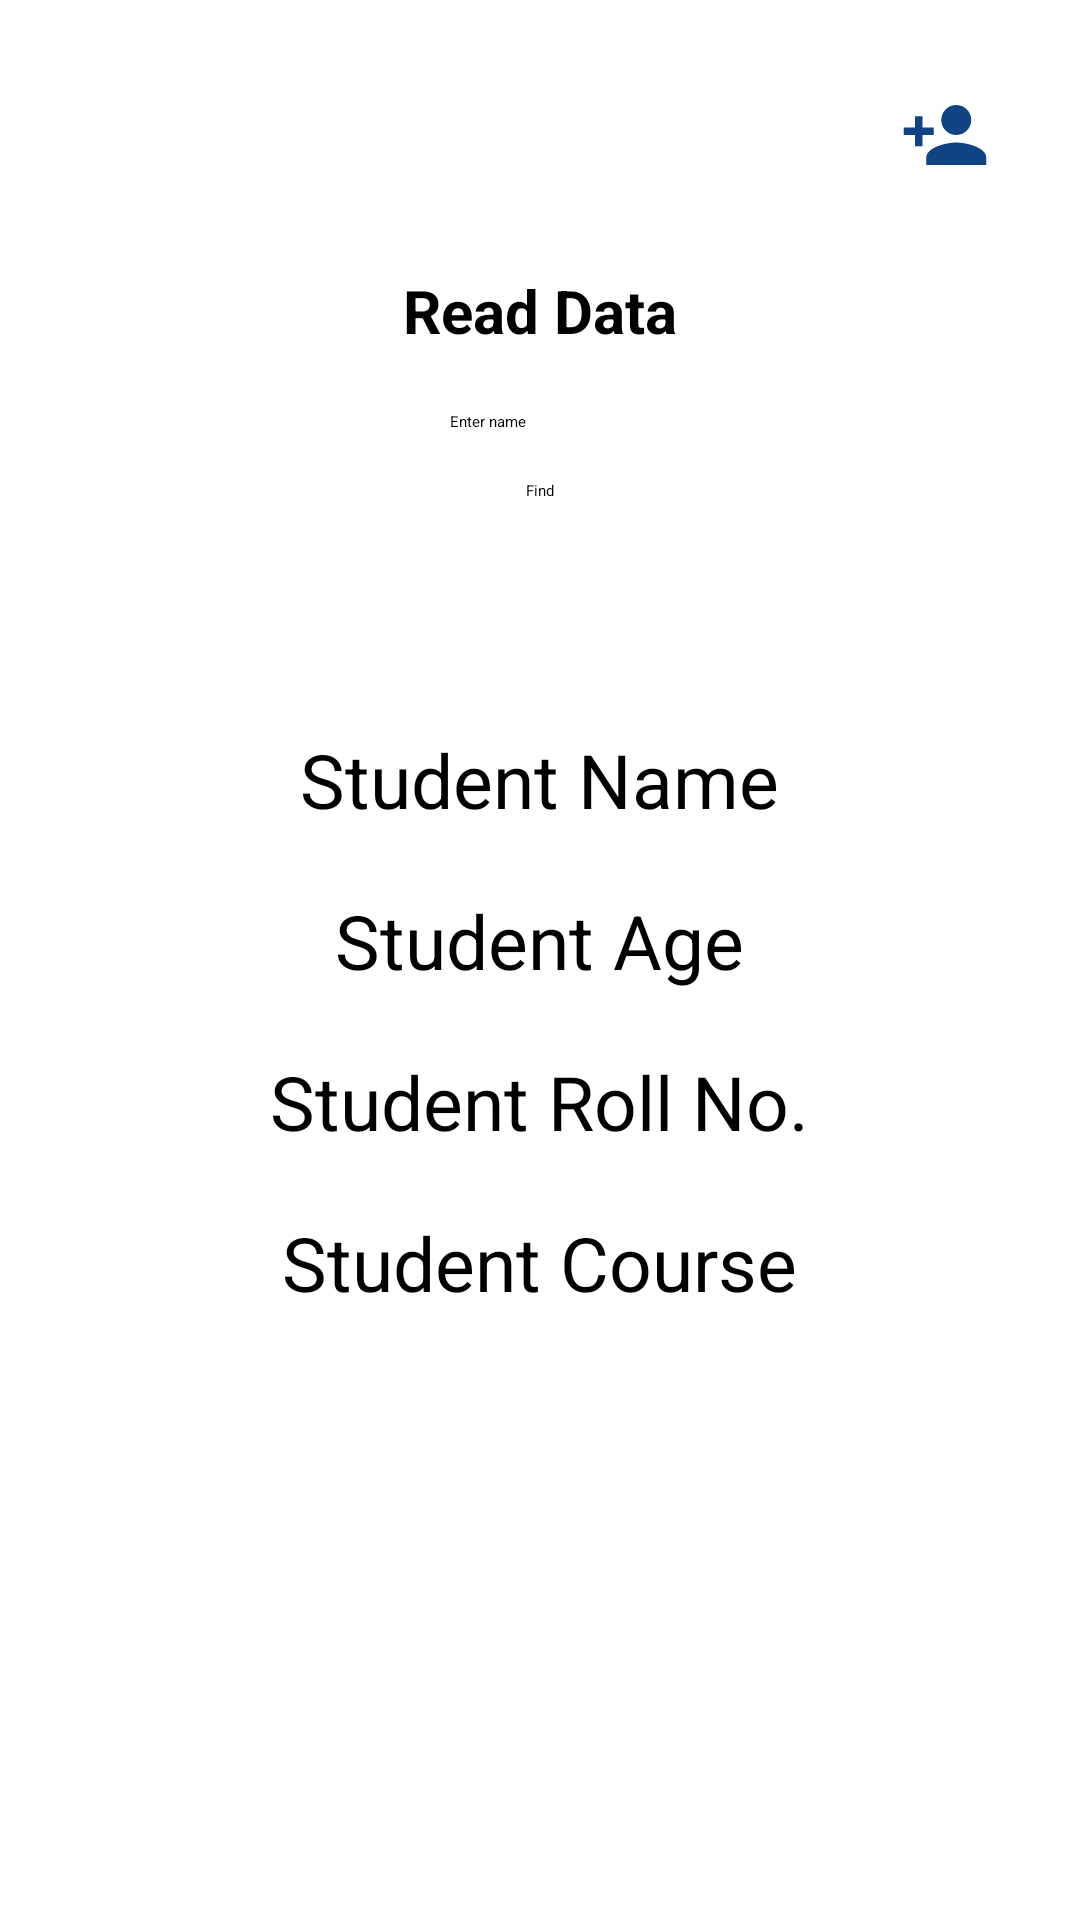

Named icons in this screenshot (1080w x 1920h) and their centers, [x,y]:
person add: [945,135]
